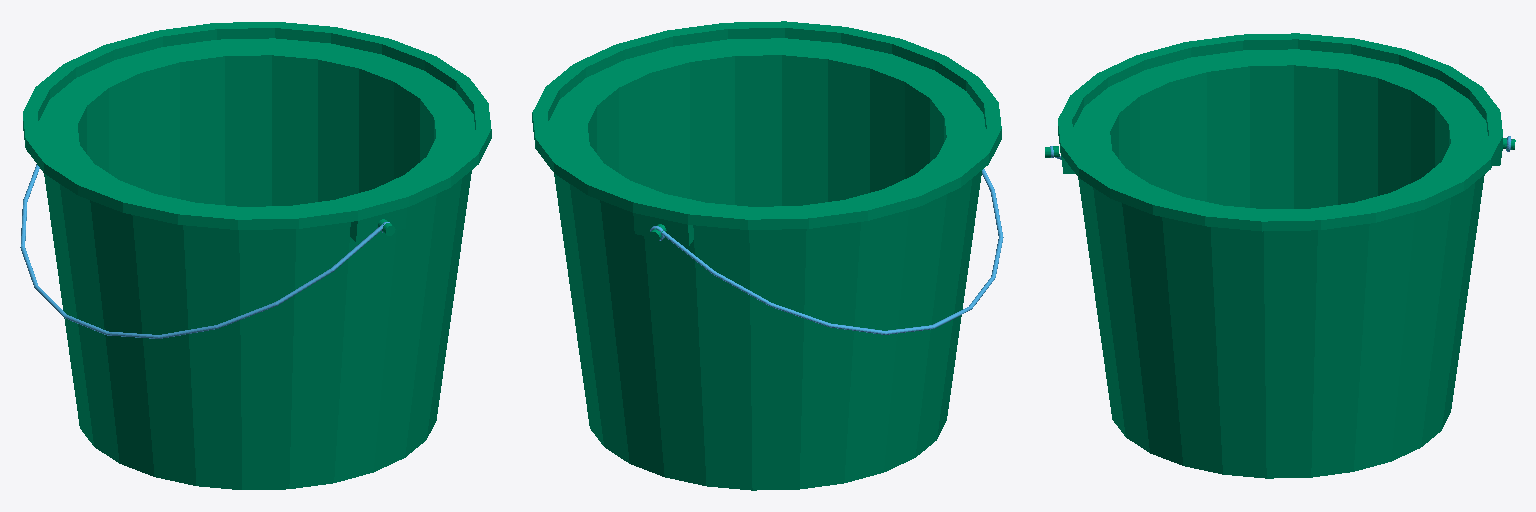
robot.urdf — partnet_e2c049a1e7b7004bf44a292ef014253:
<?xml version="1.0" ?>
<robot name="partnet_e2c049a1e7b7004bf44a292ef014253">
	<link name="base"/>
	<link name="link_0">
		<visual name="handle-1">
			<origin xyz="-0.0007989616986171981 -0.455802978493328 0.008465879415191321"/>
			<geometry>
				<mesh filename="textured_objs/original-1.obj"/>
			</geometry>
		</visual>
		<visual name="handle-1">
			<origin xyz="-0.0007989616986171981 -0.455802978493328 0.008465879415191321"/>
			<geometry>
				<mesh filename="textured_objs/original-6.obj"/>
			</geometry>
		</visual>
		<visual name="handle-1">
			<origin xyz="-0.0007989616986171981 -0.455802978493328 0.008465879415191321"/>
			<geometry>
				<mesh filename="textured_objs/original-3.obj"/>
			</geometry>
		</visual>
		<collision>
			<origin xyz="-0.0007989616986171981 -0.455802978493328 0.008465879415191321"/>
			<geometry>
				<mesh filename="textured_objs/original-1.obj"/>
			</geometry>
		</collision>
		<collision>
			<origin xyz="-0.0007989616986171981 -0.455802978493328 0.008465879415191321"/>
			<geometry>
				<mesh filename="textured_objs/original-6.obj"/>
			</geometry>
		</collision>
		<collision>
			<origin xyz="-0.0007989616986171981 -0.455802978493328 0.008465879415191321"/>
			<geometry>
				<mesh filename="textured_objs/original-3.obj"/>
			</geometry>
		</collision>
	</link>
	<joint name="joint_0" type="revolute">
		<origin xyz="0.0007989616986171981 0.455802978493328 -0.008465879415191321"/>
		<axis xyz="-1 -0.0036 0.048"/>
		<child link="link_0"/>
		<parent link="link_1"/>
		<limit lower="-0.18849555921538758" upper="4.373096973796992"/>
	</joint>
	<link name="link_1">
		<visual name="base_body-2">
			<origin xyz="0 0 0"/>
			<geometry>
				<mesh filename="textured_objs/original-4.obj"/>
			</geometry>
		</visual>
		<visual name="base_body-2">
			<origin xyz="0 0 0"/>
			<geometry>
				<mesh filename="textured_objs/original-2.obj"/>
			</geometry>
		</visual>
		<visual name="base_body-2">
			<origin xyz="0 0 0"/>
			<geometry>
				<mesh filename="textured_objs/original-8.obj"/>
			</geometry>
		</visual>
		<visual name="base_body-2">
			<origin xyz="0 0 0"/>
			<geometry>
				<mesh filename="textured_objs/original-9.obj"/>
			</geometry>
		</visual>
		<visual name="base_body-2">
			<origin xyz="0 0 0"/>
			<geometry>
				<mesh filename="textured_objs/original-5.obj"/>
			</geometry>
		</visual>
		<visual name="base_body-2">
			<origin xyz="0 0 0"/>
			<geometry>
				<mesh filename="textured_objs/original-7.obj"/>
			</geometry>
		</visual>
		<collision>
			<origin xyz="0 0 0"/>
			<geometry>
				<mesh filename="textured_objs/original-4.obj"/>
			</geometry>
		</collision>
		<collision>
			<origin xyz="0 0 0"/>
			<geometry>
				<mesh filename="textured_objs/original-2.obj"/>
			</geometry>
		</collision>
		<collision>
			<origin xyz="0 0 0"/>
			<geometry>
				<mesh filename="textured_objs/original-8.obj"/>
			</geometry>
		</collision>
		<collision>
			<origin xyz="0 0 0"/>
			<geometry>
				<mesh filename="textured_objs/original-9.obj"/>
			</geometry>
		</collision>
		<collision>
			<origin xyz="0 0 0"/>
			<geometry>
				<mesh filename="textured_objs/original-5.obj"/>
			</geometry>
		</collision>
		<collision>
			<origin xyz="0 0 0"/>
			<geometry>
				<mesh filename="textured_objs/original-7.obj"/>
			</geometry>
		</collision>
	</link>
	<joint name="joint_1" type="fixed">
		<origin rpy="1.570796326794897 0 -1.570796326794897" xyz="0 0 0"/>
		<child link="link_1"/>
		<parent link="base"/>
	</joint>
</robot>

--- Facts derived from the render (not from the file) ---
3 views of the same robot in one strip: view 1: azimuth 30°, elevation 25°; view 2: azimuth 150°, elevation 25°; view 3: azimuth 270°, elevation 25° (orthographic).
Robot: partnet_e2c049a1e7b7004bf44a292ef014253 — 3 links, 2 joints (1 revolute, 1 fixed); root link base; default pose: all joints at 0.
Links seen in each view (by area): view 1: link_1, link_0; view 2: link_1, link_0; view 3: link_1.
Link boxes in pixels (left/top/right/bottom): link_1: left=23, top=22, right=491, bottom=489; link_0: left=20, top=164, right=389, bottom=338; link_1: left=532, top=21, right=1001, bottom=490; link_0: left=650, top=169, right=1003, bottom=334; link_1: left=1045, top=33, right=1515, bottom=478.
Size in the robot's own frame: 1.69 by 1.79 by 1.17 metres.
9 mesh visuals loaded from 9 distinct referenced files (9 OBJ).
